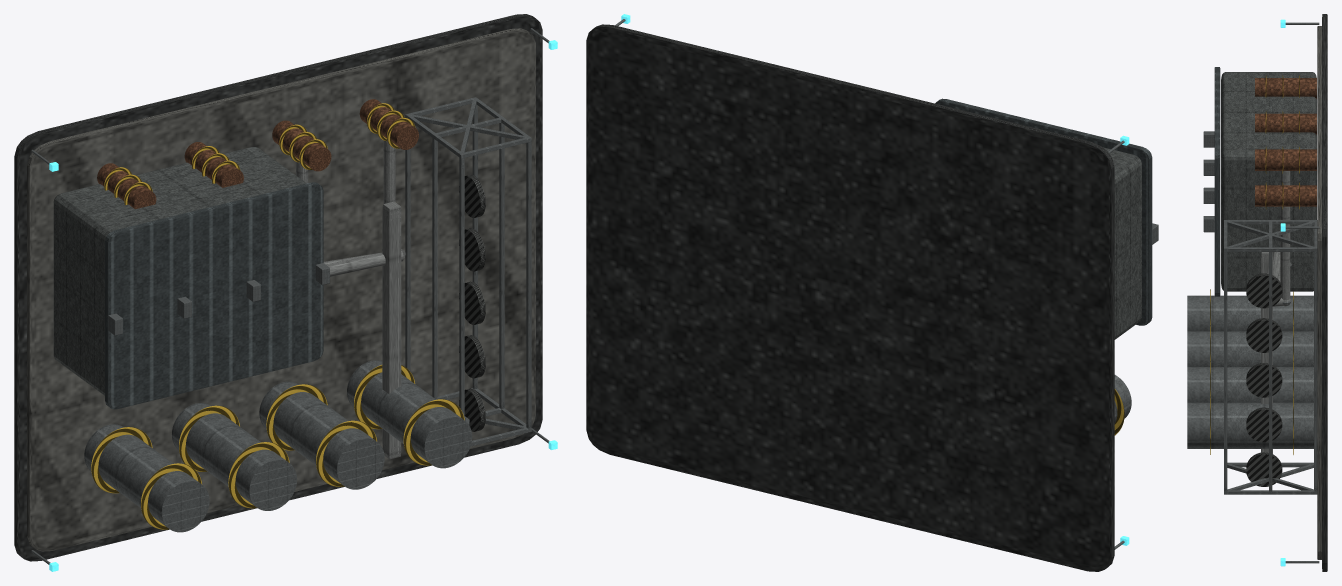
The model's file is b-05-geothermal-plant-lod0.glb.
The picture shows the model from 3 angles, left to right: view 1: azimuth 30°, elevation 25°; view 2: azimuth 150°, elevation 25°; view 3: azimuth 270°, elevation 25°; orthographic projection. The views are drawn at different scales.
Parts seen in each view (by area): view 1: foundation_inner_pad, turbine_hall_roof, foundation, turbine_hall_main_hall, steam_separator_2_vessel, steam_separator_0_vessel, steam_separator_1_vessel, steam_separator_3_vessel, primary_pipe_collector, fan_bank_beam_y_2_e, fan_bank_beam_y_1_e, fan_bank_beam_y_1_w (+21 smaller); view 2: foundation, turbine_hall_main_hall, turbine_hall_roof; view 3: turbine_hall_main_hall, steam_separator_3_vessel, steam_separator_1_vessel, steam_separator_0_vessel, steam_separator_2_vessel, foundation, foundation_inner_pad, turbine_hall_roof, well_head_2_stack, well_head_3_stack, well_head_1_stack, well_head_0_stack (+22 smaller).
Part boxes in pixels (x1,y1,x2,y2): foundation_inner_pad: (27, 28, 535, 551); turbine_hall_roof: (105, 182, 323, 409); foundation: (14, 14, 542, 561); turbine_hall_main_hall: (53, 147, 306, 395); steam_separator_2_vessel: (259, 381, 384, 489); steam_separator_0_vessel: (84, 424, 209, 532); steam_separator_1_vessel: (172, 403, 297, 510); steam_separator_3_vessel: (347, 360, 472, 468); primary_pipe_collector: (382, 201, 401, 459); fan_bank_beam_y_2_e: (526, 136, 531, 430); fan_bank_beam_y_1_e: (499, 117, 504, 408); fan_bank_beam_y_1_w: (432, 133, 437, 399); foundation: (586, 24, 1114, 571); turbine_hall_main_hall: (1103, 147, 1141, 339); turbine_hall_roof: (935, 98, 1152, 325); turbine_hall_main_hall: (1221, 72, 1316, 291); steam_separator_3_vessel: (1187, 402, 1313, 448); steam_separator_1_vessel: (1187, 331, 1313, 366); steam_separator_0_vessel: (1187, 295, 1313, 331); steam_separator_2_vessel: (1187, 367, 1313, 402); foundation: (1322, 14, 1327, 571); foundation_inner_pad: (1317, 26, 1321, 559); turbine_hall_roof: (1214, 67, 1220, 296); well_head_2_stack: (1255, 149, 1316, 170); well_head_3_stack: (1255, 185, 1316, 206); well_head_1_stack: (1255, 113, 1316, 134); well_head_0_stack: (1255, 78, 1316, 98).
Size of what is drawn, in the model's own units: 18 by 14 by 4.98.
Materials: 10 (10 with a texture image).
